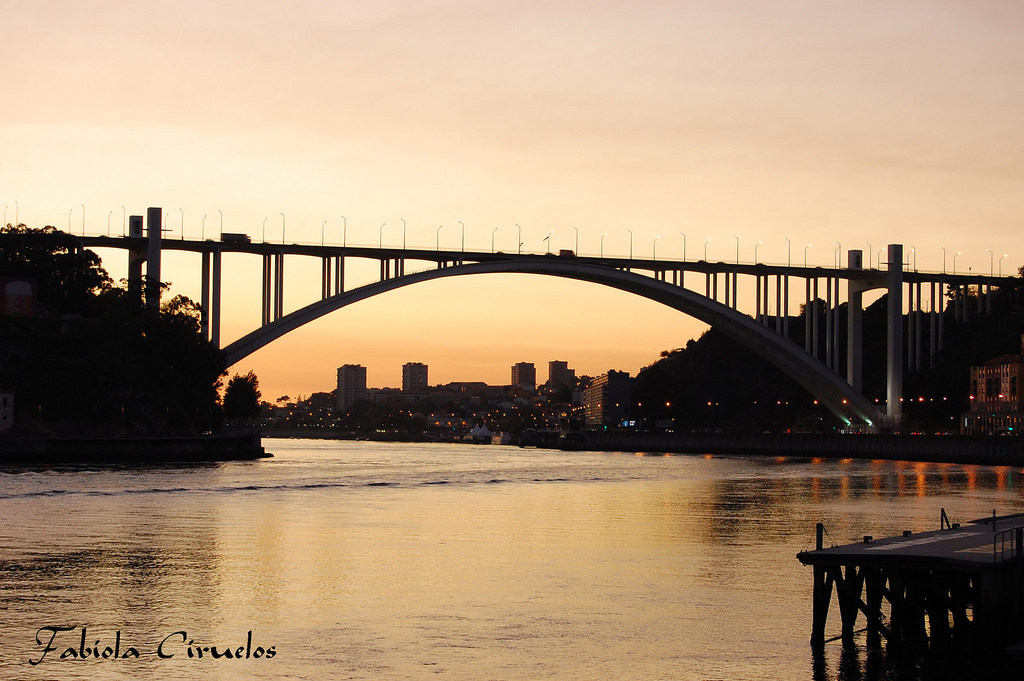arrabida: (45, 207, 1023, 433)
